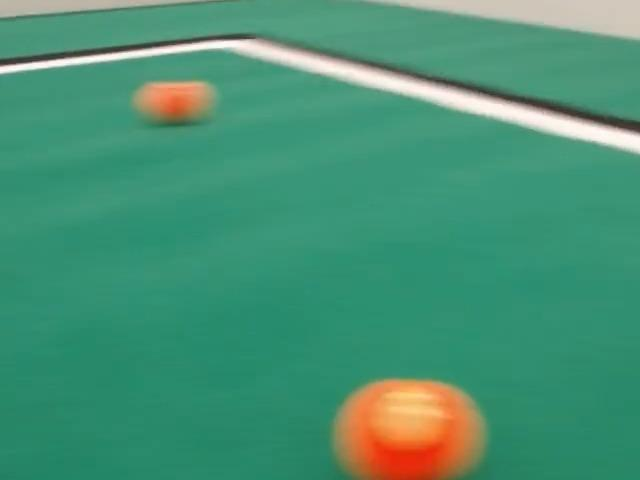Ball: (333, 379, 485, 479), (134, 81, 214, 123)
